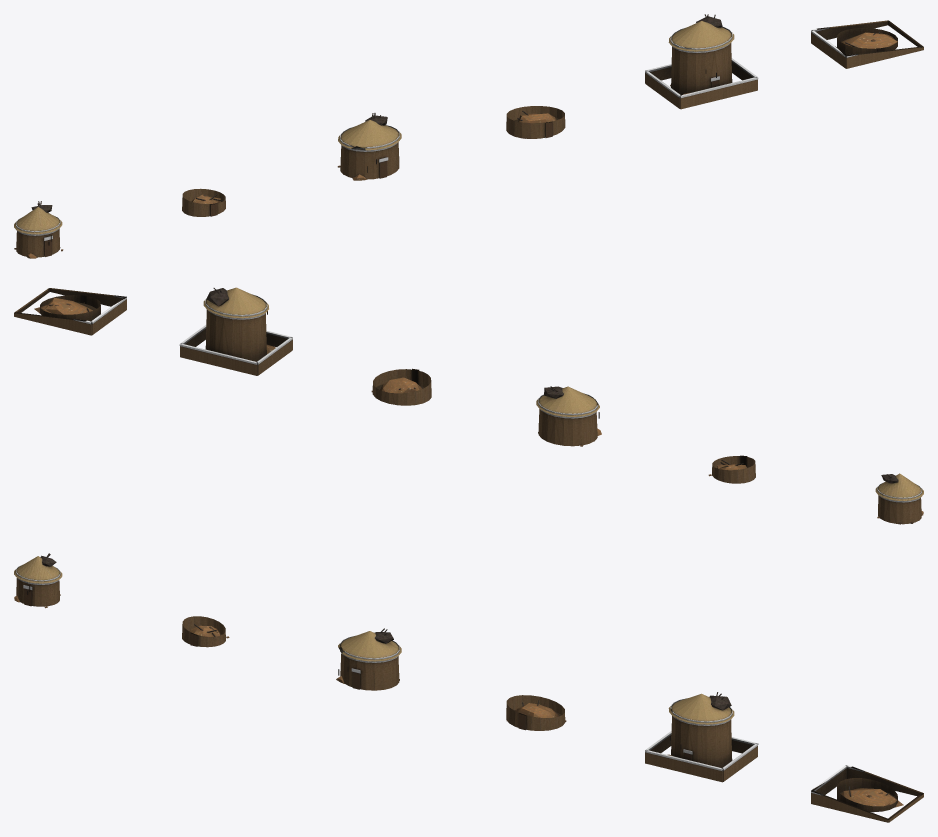
The model's file is bronze-maghreb-houses-damage-1ce6fac3.glb.
3 renders of one model, top to bottom at view 1: azimuth 30°, elevation 25°; view 2: azimuth 150°, elevation 25°; view 3: azimuth 330°, elevation 25°, orthographic.
Visible parts, largest first — view 1: LOD0.004, LOD0.005, LOD0.002, LOD0, LOD0.003, LOD0.001; view 2: LOD0.004, LOD0.005, LOD0.002, LOD0, LOD0.003, LOD0.001; view 3: LOD0.004, LOD0.005, LOD0.002, LOD0, LOD0.003, LOD0.001.
Part boxes in pixels (left/top/right/bottom): LOD0.004: left=645, top=14, right=758, bottom=109; LOD0.005: left=811, top=20, right=923, bottom=68; LOD0.002: left=337, top=113, right=401, bottom=180; LOD0: left=14, top=201, right=63, bottom=258; LOD0.003: left=506, top=106, right=565, bottom=138; LOD0.001: left=182, top=188, right=225, bottom=216; LOD0.004: left=179, top=287, right=292, bottom=375; LOD0.005: left=14, top=288, right=126, bottom=335; LOD0.002: left=536, top=386, right=601, bottom=446; LOD0: left=875, top=473, right=923, bottom=524; LOD0.003: left=371, top=368, right=431, bottom=405; LOD0.001: left=708, top=455, right=755, bottom=483; LOD0.004: left=645, top=692, right=758, bottom=782; LOD0.005: left=811, top=765, right=923, bottom=822; LOD0.002: left=336, top=628, right=401, bottom=690; LOD0: left=14, top=553, right=62, bottom=608; LOD0.003: left=506, top=695, right=566, bottom=730; LOD0.001: left=182, top=616, right=229, bottom=647.
Size of what is drawn, in the model's own units: 16.1 by 1.15 by 1.12.
2 materials, 2 textured.
